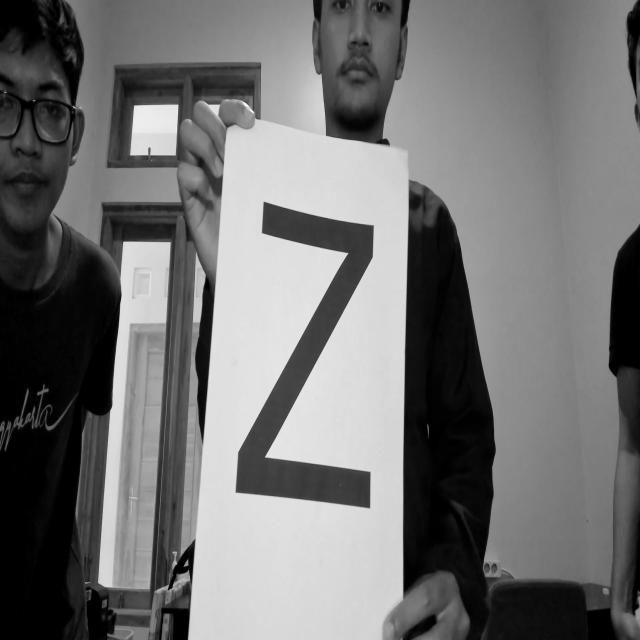z: (230, 171, 390, 531)
